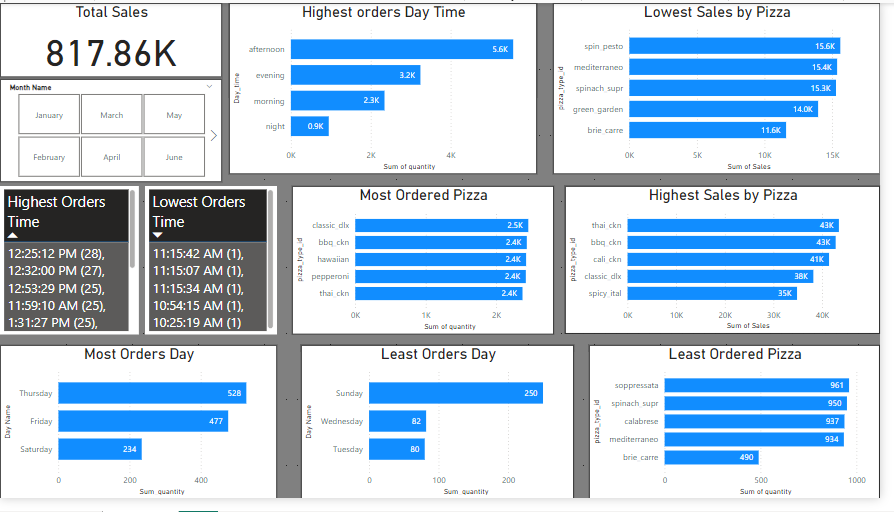

Layout of this report page (visuals, bound fields, positions):
{"tool":"powerbi","page":{"name":"Page 1","canvas":[1280,720],"ordinal":0},"visuals":[{"type":"tableEx","fields":{"Values":["order_details.Top5MaxQuantityTimes"]},"box":[0,266.1,202.1,215.6],"z":0},{"type":"tableEx","fields":{"Values":["order_details.Top5MinQuantityTimes"]},"box":[210.5,266.1,192,215.6],"z":1000},{"type":"clusteredBarChart","title":"Most Orders Day","fields":{"Category":["orders.Day Name"],"Y":["order_details.Sum_quantity"]},"box":[0,496.8,402.5,224],"z":2000},{"type":"clusteredBarChart","title":"Least Orders Day","fields":{"Category":["orders.Day Name"],"Y":["order_details.Sum_quantity"]},"box":[437.9,496.8,397.5,224],"z":3000},{"type":"card","title":"Total Sales","fields":{"Values":["Sum(pizzas.Sales)"]},"box":[0,0,322.9,107.6],"z":4000},{"type":"clusteredBarChart","title":"Most Ordered Pizza","fields":{"Category":["pizzas.pizza_type_id"],"Y":["Sum(order_details.quantity)"]},"box":[424.4,266.1,380.6,215.6],"z":5000},{"type":"barChart","title":"Least Ordered Pizza","fields":{"Category":["pizzas.pizza_type_id"],"Y":["Sum(order_details.quantity)"]},"box":[856.7,497.5,423.3,224],"z":6000},{"type":"barChart","title":"Highest Sales by Pizza","fields":{"Category":["pizzas.pizza_type_id"],"Y":["Sum(pizzas.Sales)"]},"box":[821.8,266.2,458.2,215.3],"z":7000},{"type":"barChart","title":"Lowest Sales by Pizza","fields":{"Category":["pizzas.pizza_type_id"],"Y":["Sum(pizzas.Sales)"]},"box":[804.4,0,475.6,248.7],"z":8000},{"type":"clusteredBarChart","title":"Highest orders Day Time ","fields":{"Category":["orders.Day_time"],"Y":["Sum(order_details.quantity)"]},"box":[333.1,0,448,248.7],"z":9000},{"type":"slicer","fields":{"Values":["orders.Month Name"]},"box":[0,111,323,150],"z":10000}]}

Visuals, with their boxes in screenshot pixels (x1, y1, x2, y2), scaled from the page's 1280x720 canvas onto the 894x512 screenshot:
tableEx - order_details.Top5MaxQuantityTimes: box(0, 189, 141, 343)
tableEx - order_details.Top5MinQuantityTimes: box(147, 189, 281, 343)
"Most Orders Day" clusteredBarChart: box(0, 353, 281, 511)
"Least Orders Day" clusteredBarChart: box(306, 353, 583, 511)
"Total Sales" card: box(0, 0, 226, 77)
"Most Ordered Pizza" clusteredBarChart: box(296, 189, 562, 343)
"Least Ordered Pizza" barChart: box(598, 354, 893, 511)
"Highest Sales by Pizza" barChart: box(574, 189, 893, 342)
"Lowest Sales by Pizza" barChart: box(562, 0, 893, 177)
"Highest orders Day Time " clusteredBarChart: box(233, 0, 546, 177)
slicer - orders.Month Name: box(0, 79, 226, 186)
